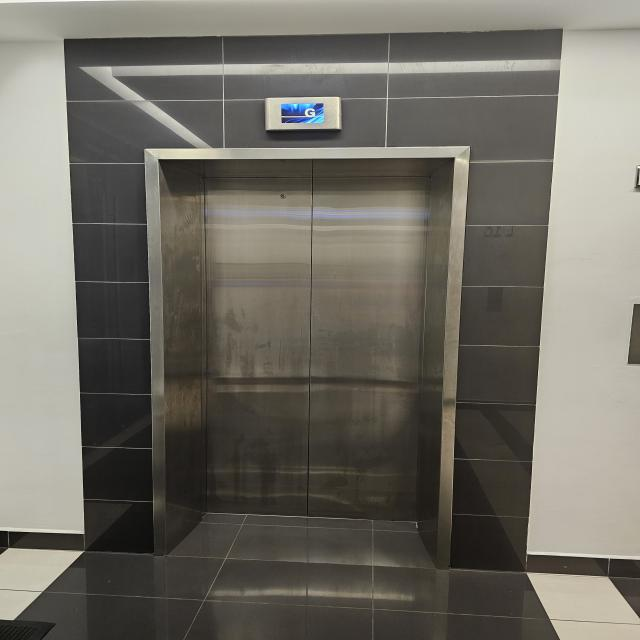elevator: (142, 145, 472, 570)
footpath: (1, 547, 640, 640)
